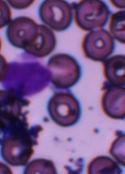L: (1, 52, 52, 100)
